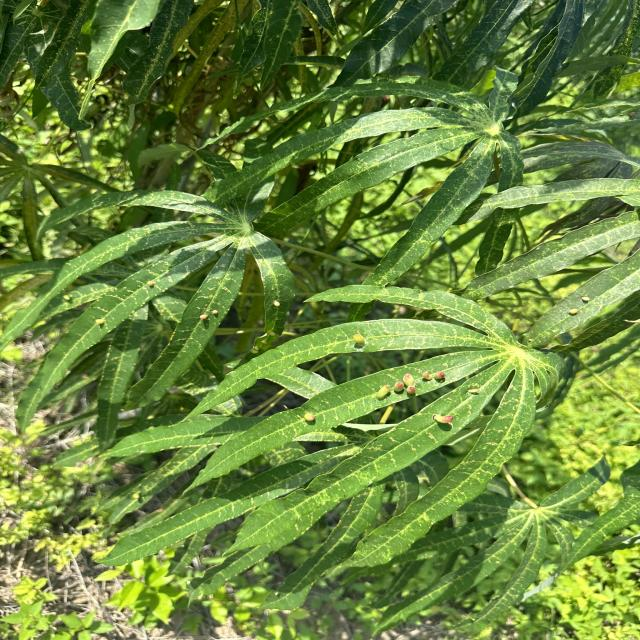Mosca: (367, 366, 449, 408), (558, 287, 595, 326), (423, 408, 454, 436), (190, 302, 226, 326), (291, 401, 317, 430), (89, 309, 116, 336), (139, 265, 161, 296), (45, 288, 81, 305), (346, 334, 374, 354), (269, 291, 285, 315), (460, 383, 486, 397)
